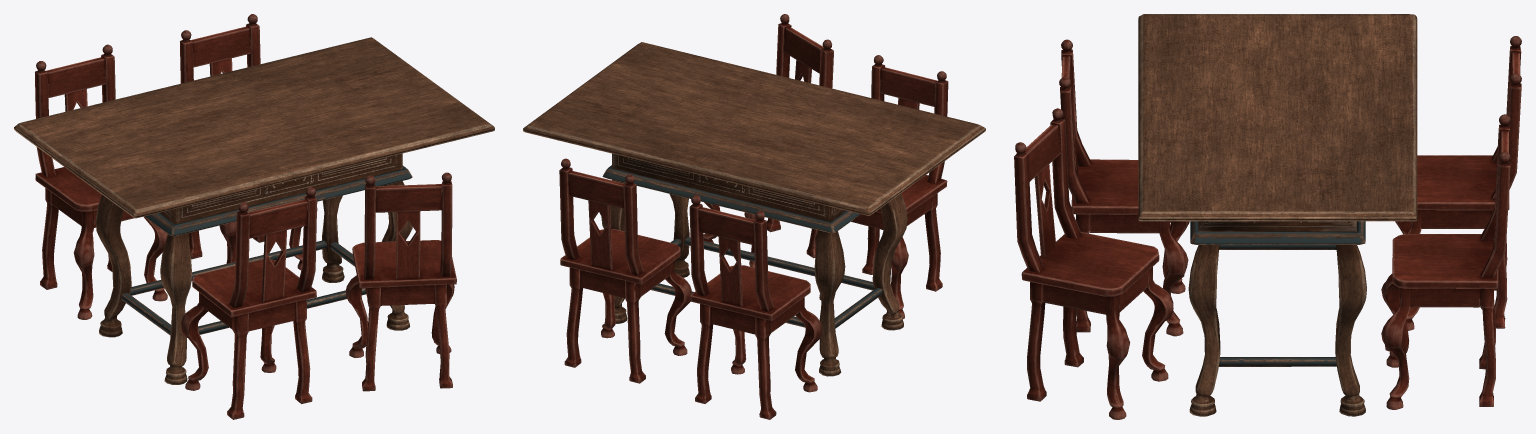
Rendered from old dinning.fbx.
3 views of the same model, side by side, from view 1: azimuth 30°, elevation 25°; view 2: azimuth 150°, elevation 25°; view 3: azimuth 270°, elevation 25° (orthographic). The views are drawn at different scales.
Parts seen in each view (by area): view 1: table_low_M_table_0, Chair_low2_M_chair_0, Chair_low1_M_chair_0, Chair_low3_M_chair_0, Chair_low4_M_chair_0; view 2: table_low_M_table_0, Chair_low3_M_chair_0, Chair_low4_M_chair_0, Chair_low2_M_chair_0, Chair_low1_M_chair_0; view 3: table_low_M_table_0, Chair_low1_M_chair_0, Chair_low4_M_chair_0, Chair_low2_M_chair_0, Chair_low3_M_chair_0.
Boxes of the visible parts, <box> form: table_low_M_table_0: <box>14,37,494,384</box>; Chair_low2_M_chair_0: <box>180,186,317,419</box>; Chair_low1_M_chair_0: <box>345,172,456,391</box>; Chair_low3_M_chair_0: <box>35,44,167,319</box>; Chair_low4_M_chair_0: <box>180,14,317,270</box>; table_low_M_table_0: <box>523,42,985,376</box>; Chair_low3_M_chair_0: <box>689,195,821,419</box>; Chair_low4_M_chair_0: <box>559,158,691,383</box>; Chair_low2_M_chair_0: <box>815,55,948,319</box>; Chair_low1_M_chair_0: <box>703,14,833,267</box>; table_low_M_table_0: <box>1138,14,1417,416</box>; Chair_low1_M_chair_0: <box>1014,108,1173,419</box>; Chair_low4_M_chair_0: <box>1381,114,1510,409</box>; Chair_low2_M_chair_0: <box>1059,39,1189,336</box>; Chair_low3_M_chair_0: <box>1395,36,1521,330</box>.
Size of the model in its own units: 16284 by 9464 by 17292.
